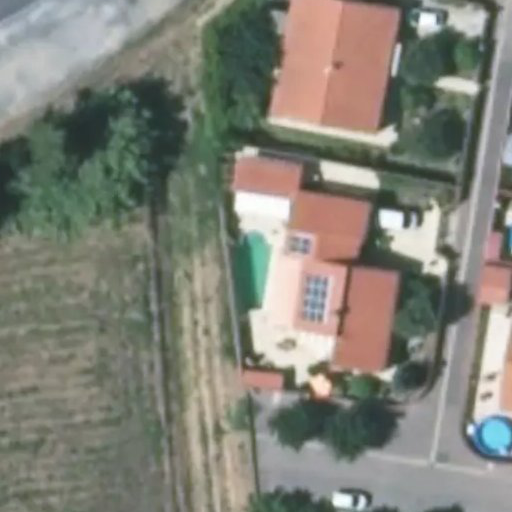pool: (234, 207, 275, 274)
